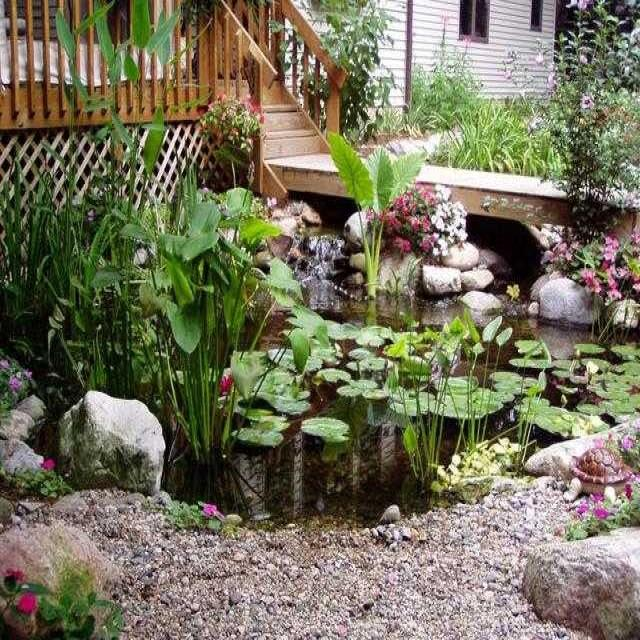Ponds: (1, 182, 636, 540)
